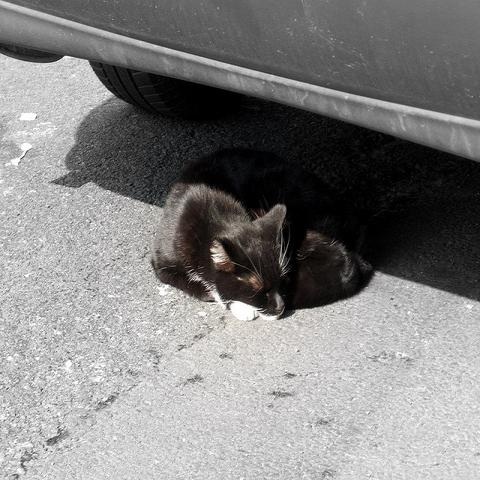car: (1, 1, 479, 162)
